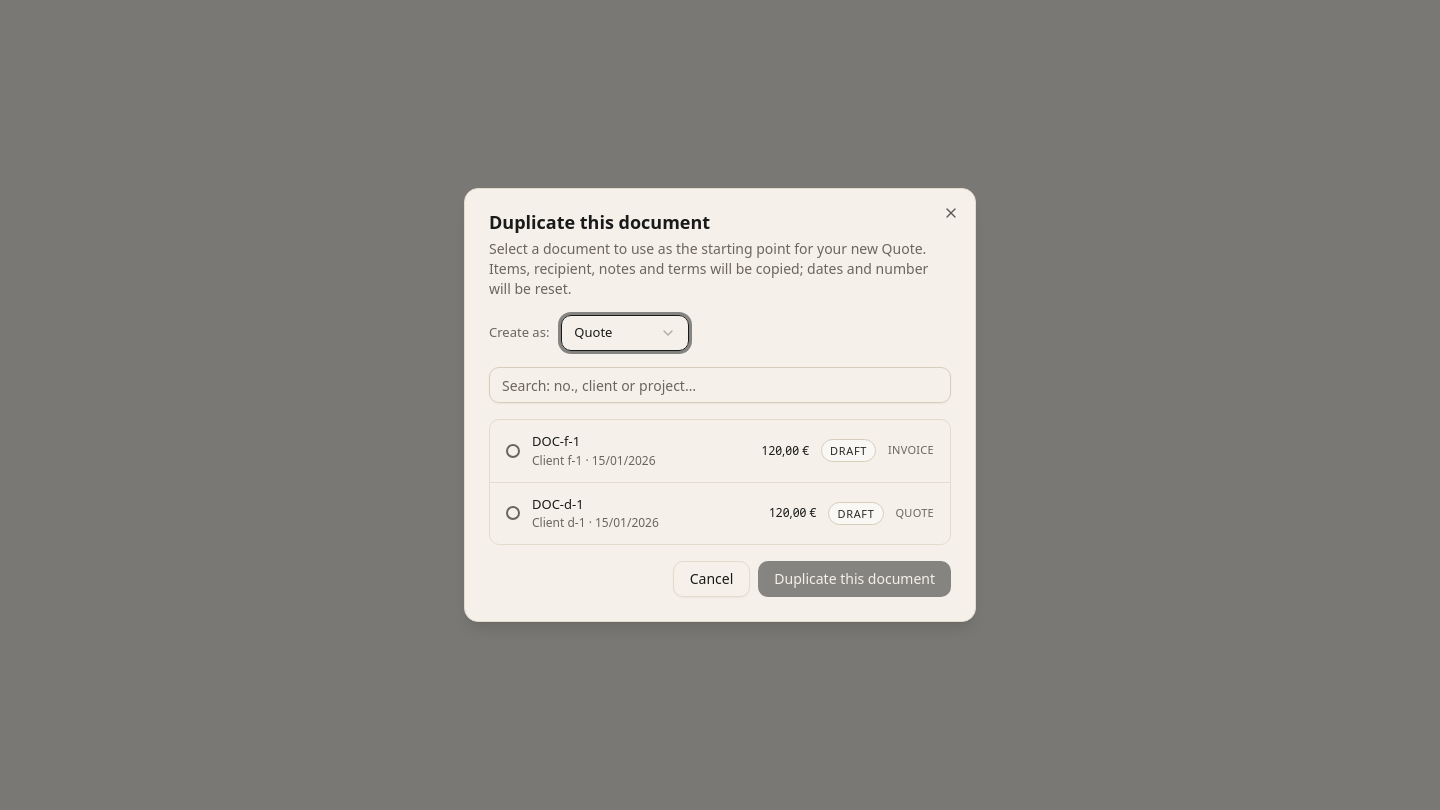
Scenario: test_create_from_existing_dialog_lists_recent_docs_and_navigates › selecting a doc again deselects it (toggle behaviour)
What coordinates should you click on to do the following:
click the text "DOC-d-1"
I would click on:
 (558, 504)
Its box is [532,494,584,512].
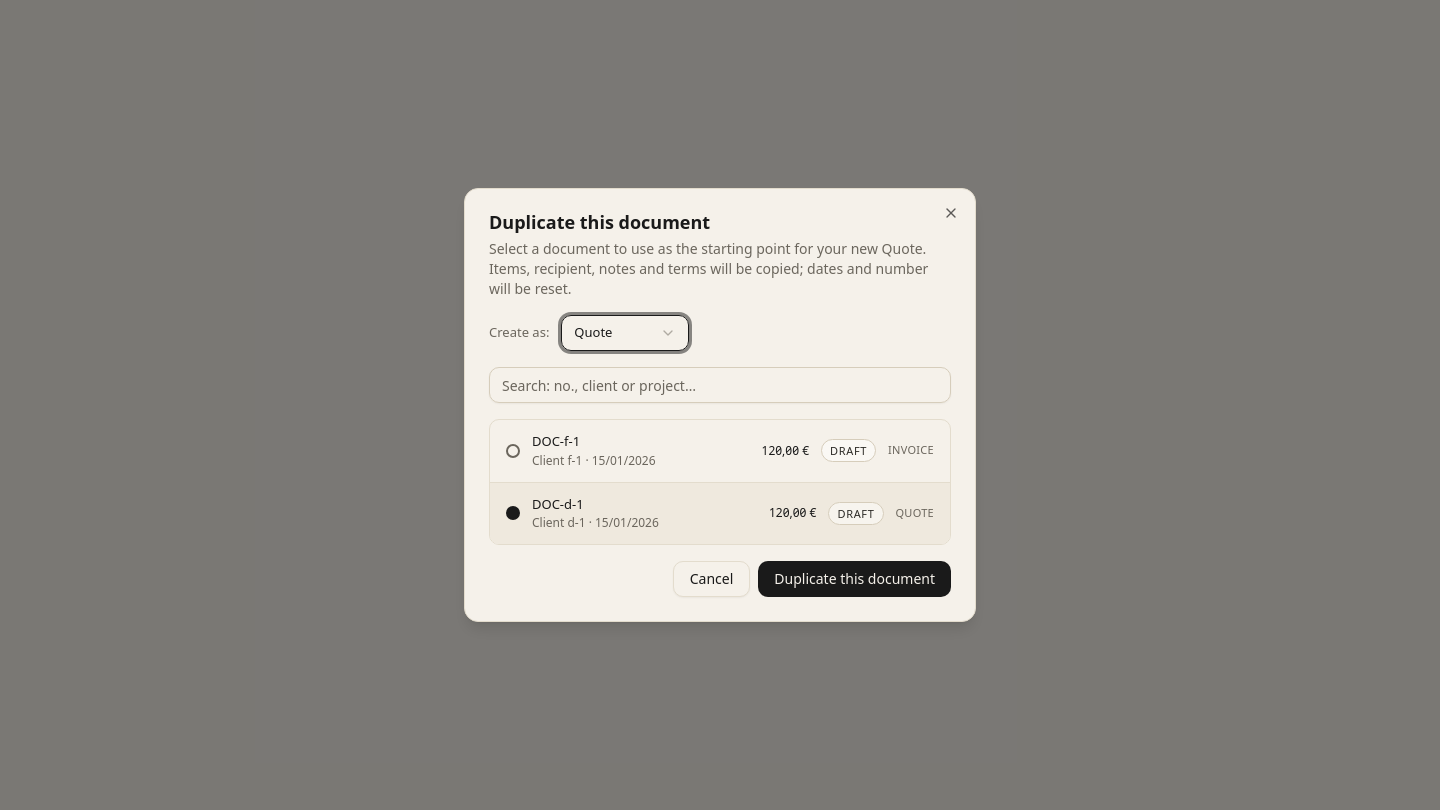
Check: the button "Duplicate this document" is enabled, box [758,561,951,597]
What coordinates should you click on to do the following:
click the text "DOC-d-1"
I would click on:
 (558, 504)
Its box is [532,494,584,512].
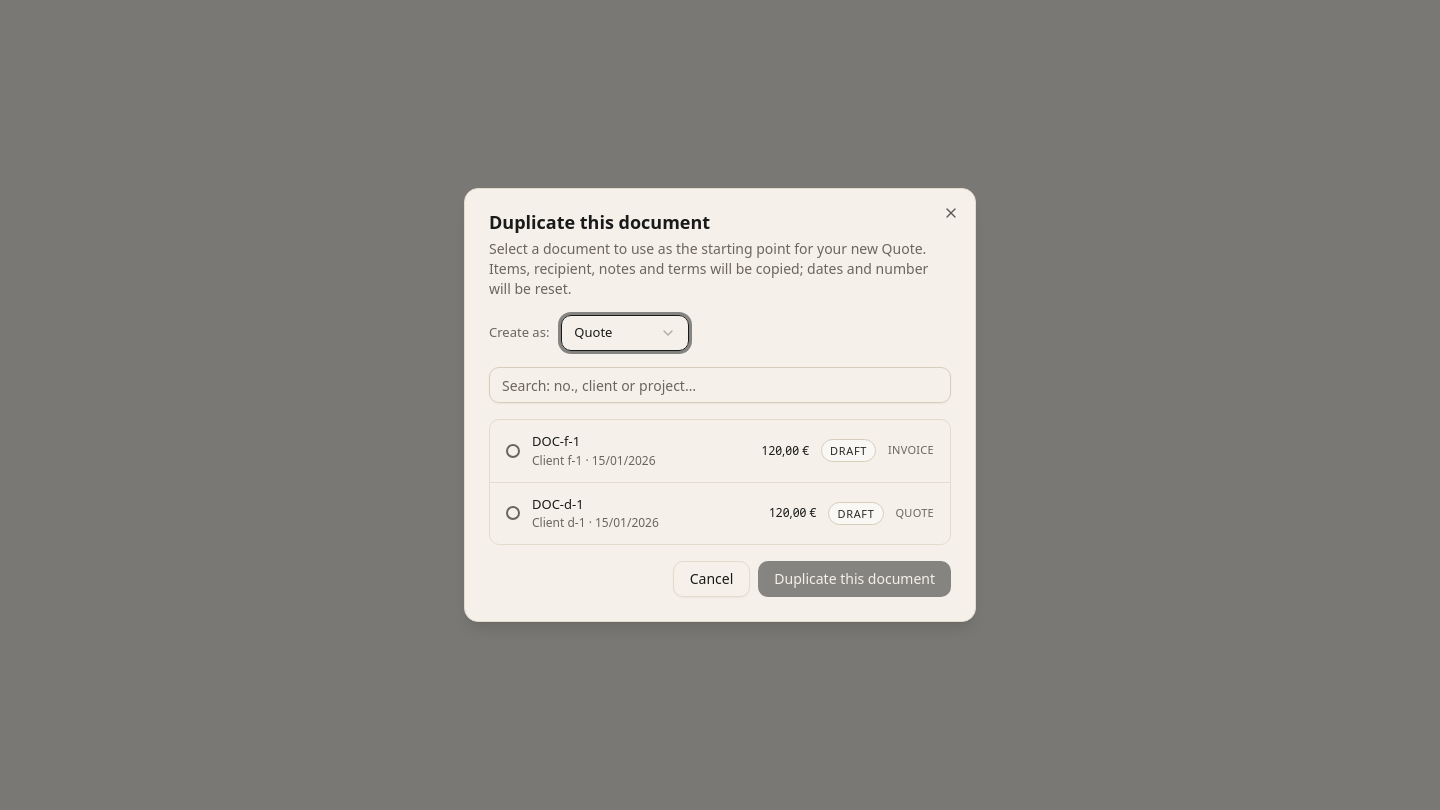
Check: the button "Duplicate this document" is disabled, box [758,561,951,597]
